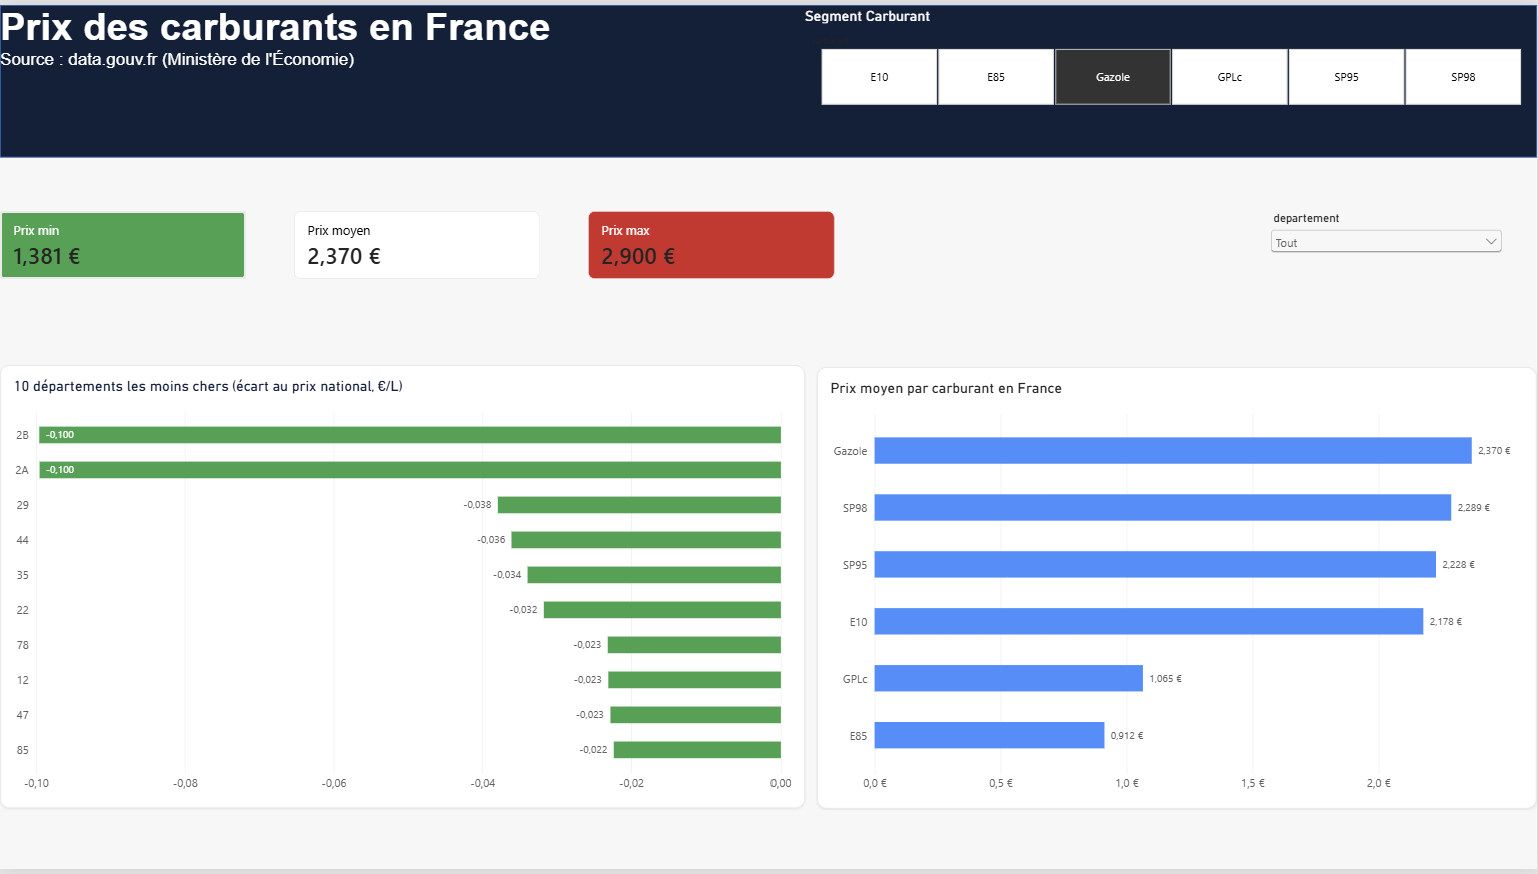

Layout of this report page (visuals, bound fields, positions):
{"tool":"powerbi","page":{"name":"Vue d'ensemble","canvas":[1920,1080],"ordinal":0},"visuals":[{"type":"cardVisual","fields":{"Data":["prix_carburants.Prix moyen"]},"box":[367.9,257.9,307.3,85.2],"z":1000},{"type":"clusteredBarChart","title":"10 départements les moins chers (écart au prix national, €/L)","fields":{"Category":["prix_carburants.departement"],"Y":["prix_carburants.Ecart vs national"]},"box":[0,450.8,1004.9,554],"z":2000},{"type":"cardVisual","fields":{"Data":["prix_carburants.Prix max"]},"box":[735.7,257.9,307.3,85.2],"z":3000},{"type":"cardVisual","fields":{"Data":["prix_carburants.Prix min"]},"box":[0,257.9,307.3,85.2],"z":4000},{"type":"clusteredBarChart","title":"Prix moyen par carburant en France","fields":{"Category":["prix_carburants.carburant"],"Y":["prix_carburants.Prix moyen"]},"box":[1020.6,453.1,899.4,551.8],"z":5000},{"type":"slicer","fields":{"Values":["prix_carburants.departement"]},"box":[1583.6,257.9,298.3,85.2],"z":6000},{"type":"shape","box":[0,0,1920,190.6],"z":6001},{"type":"slicer","title":"Segment Carburant","fields":{"Values":["prix_carburants.carburant"]},"box":[1004.9,2.2,914.1,124],"z":6002},{"type":"textbox","box":[0,0,735.7,123.4],"z":6003}]}

Visuals, with their boxes in screenshot pixels (x1, y1, x2, y2), scaled from the page's 1920x1080 canvas onto the 1538x874 screenshot:
cardVisual - prix_carburants.Prix moyen: 295:209:541:278
"10 départements les moins chers (écart au prix national, €/L)" clusteredBarChart: 0:365:805:813
cardVisual - prix_carburants.Prix max: 589:209:835:278
cardVisual - prix_carburants.Prix min: 0:209:246:278
"Prix moyen par carburant en France" clusteredBarChart: 818:367:1537:813
slicer - prix_carburants.departement: 1269:209:1507:278
shape: 0:0:1537:154
"Segment Carburant" slicer: 805:2:1537:102
textbox: 0:0:589:100
